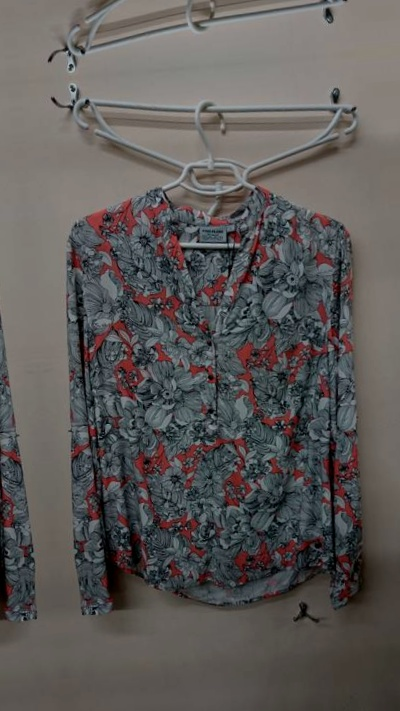Blouse: (32, 102, 385, 659), (0, 131, 49, 688), (0, 0, 332, 34)
